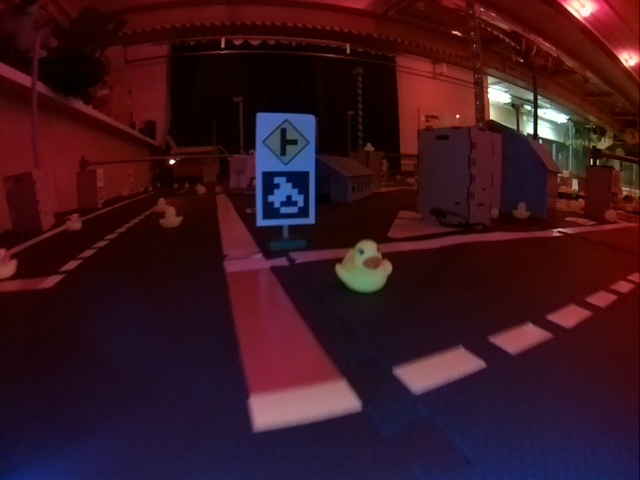Duckie: (337, 240, 393, 292), (161, 207, 182, 228), (513, 202, 530, 219), (66, 215, 82, 230)
Intersection sign: (262, 120, 306, 164)
QR code: (263, 171, 309, 219)
